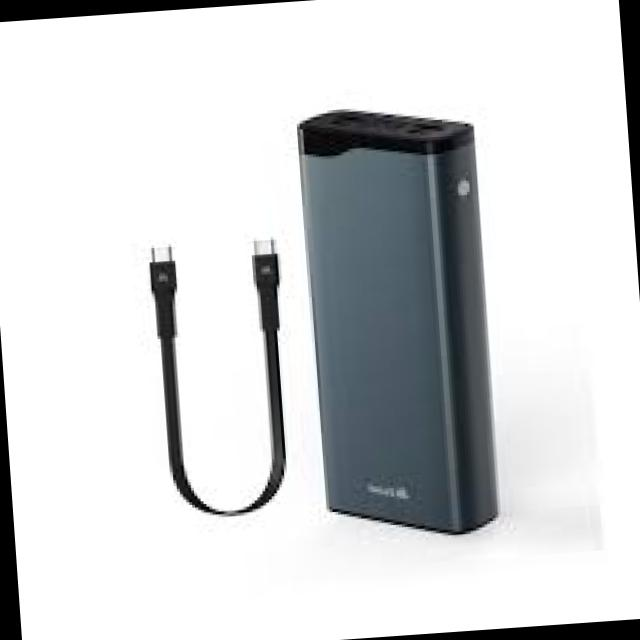portable-charger: (287, 98, 503, 547)
